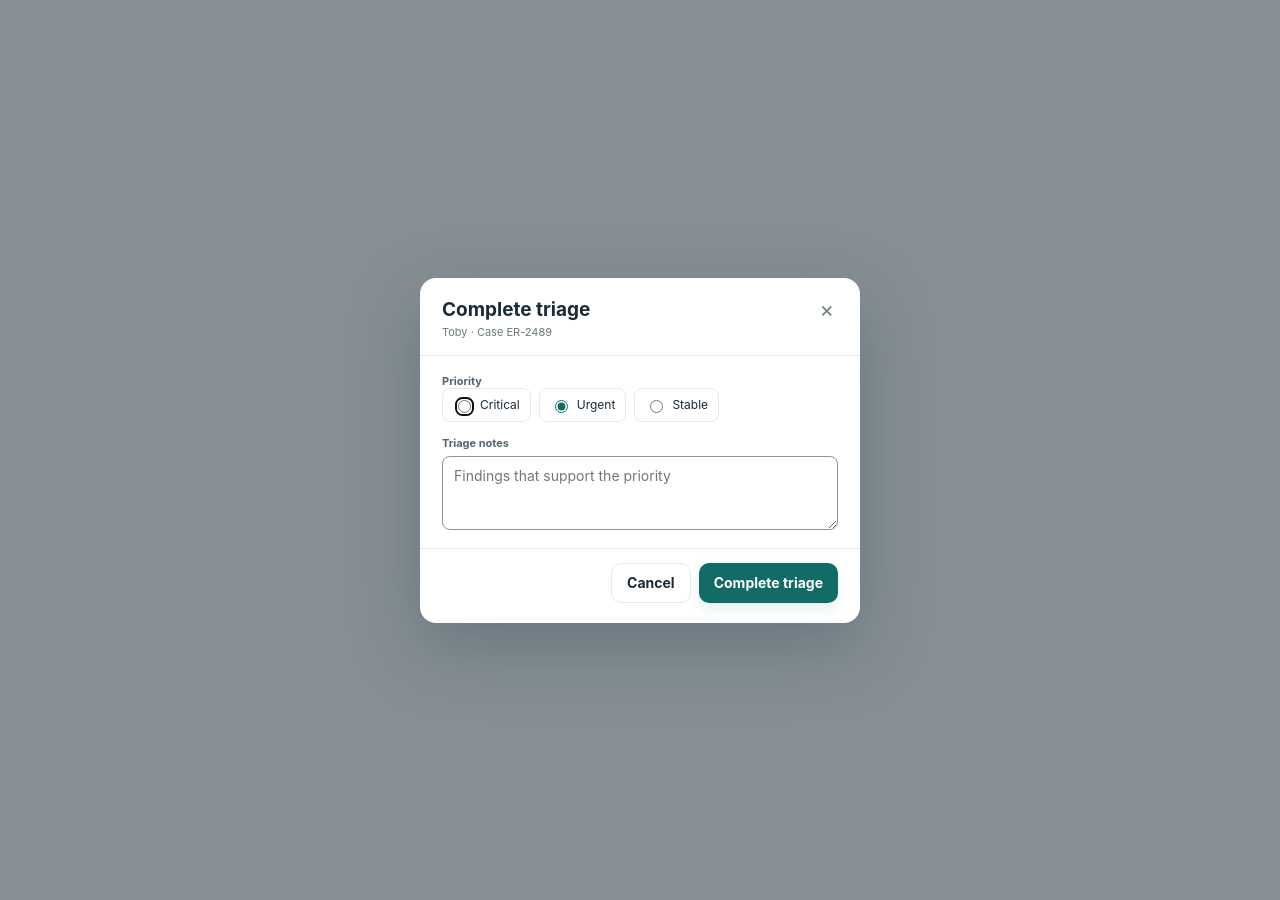
TriageDialog › shows the API's field message and keeps what was typed
Type "Long notes" into the text box labelled "Triage notes" at (640, 492), box [442,456,838,530]
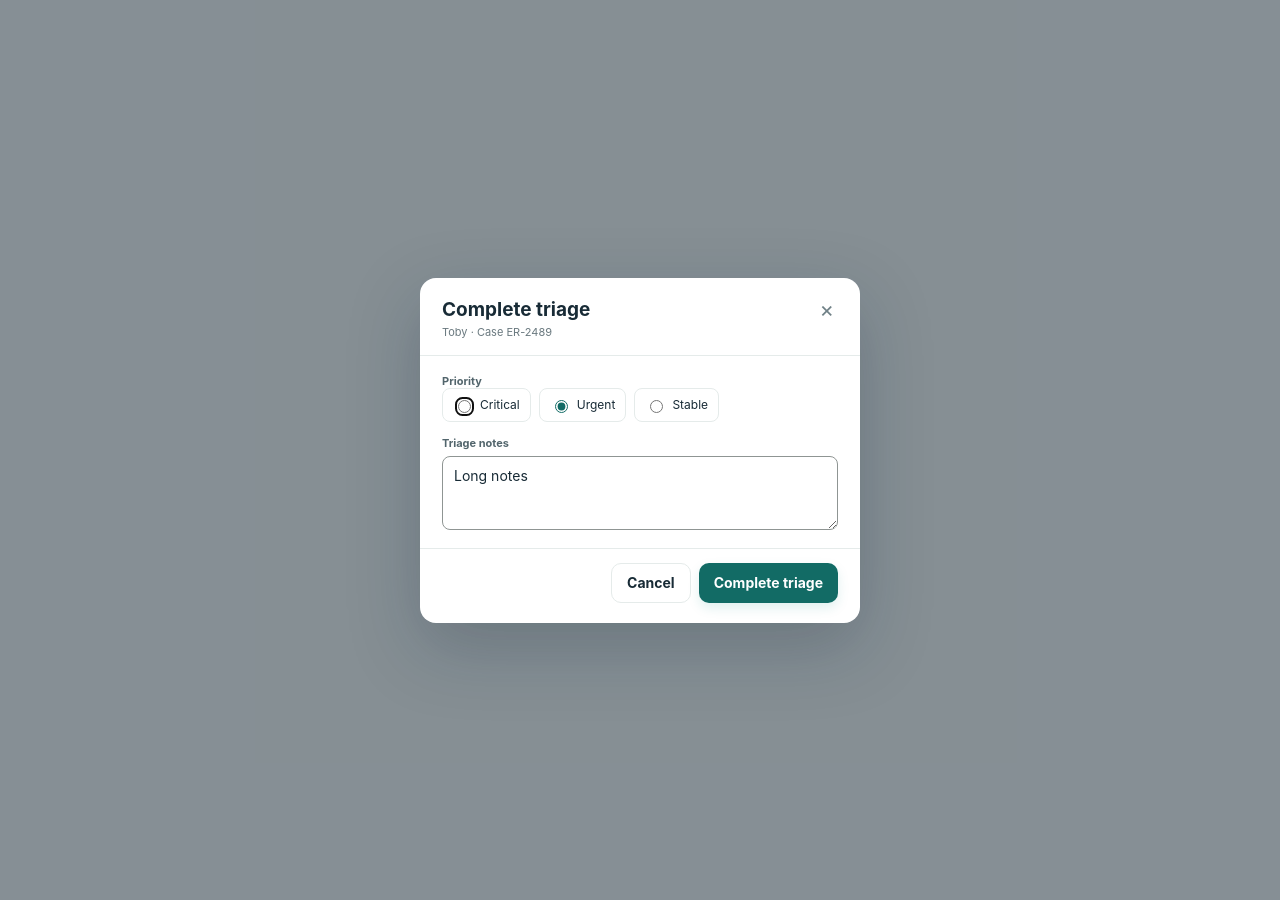
Click the button "Complete triage" at (768, 582), box [699,562,838,602]
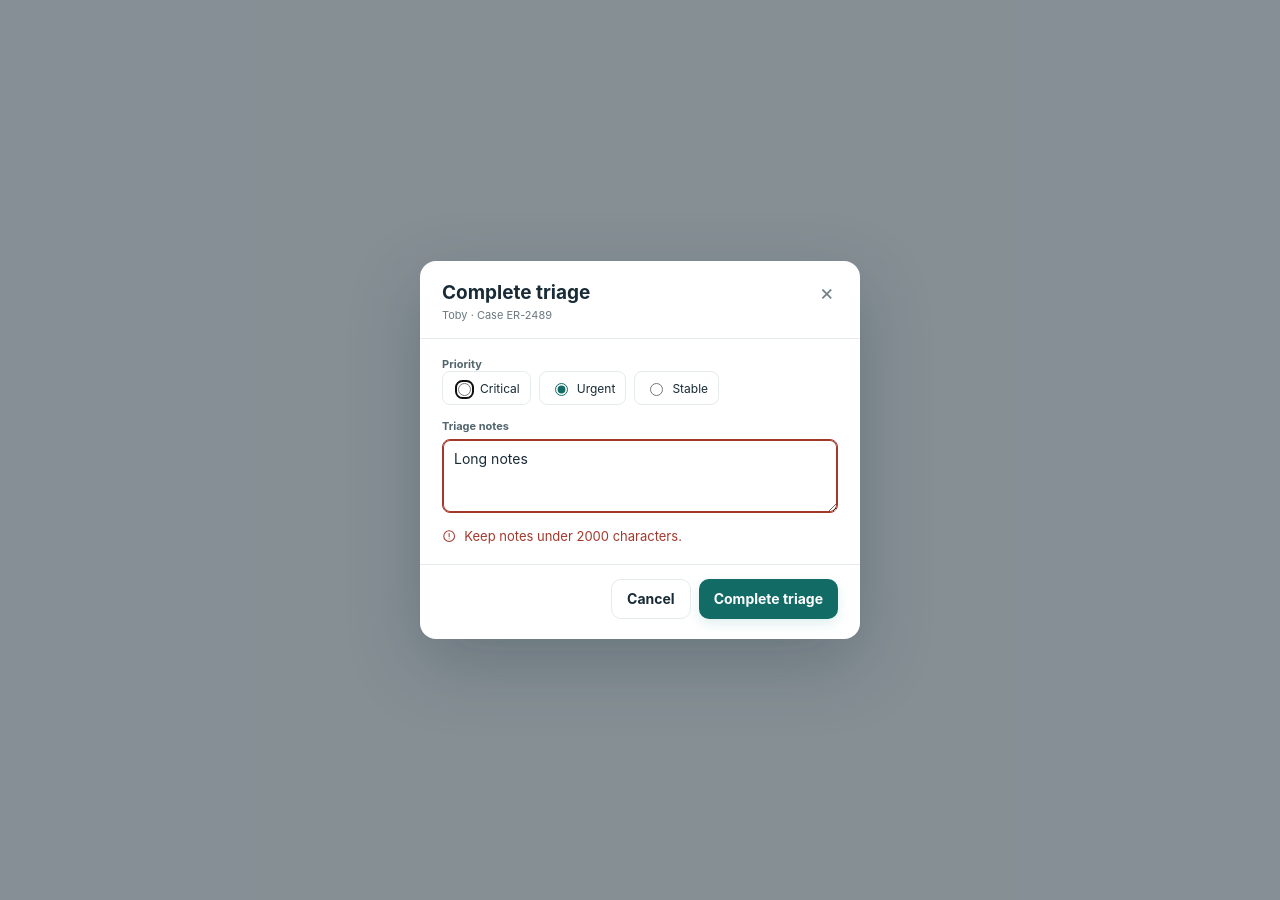
Check: the text "Keep notes under 2000 characters." is shown, box [442,528,682,544]
